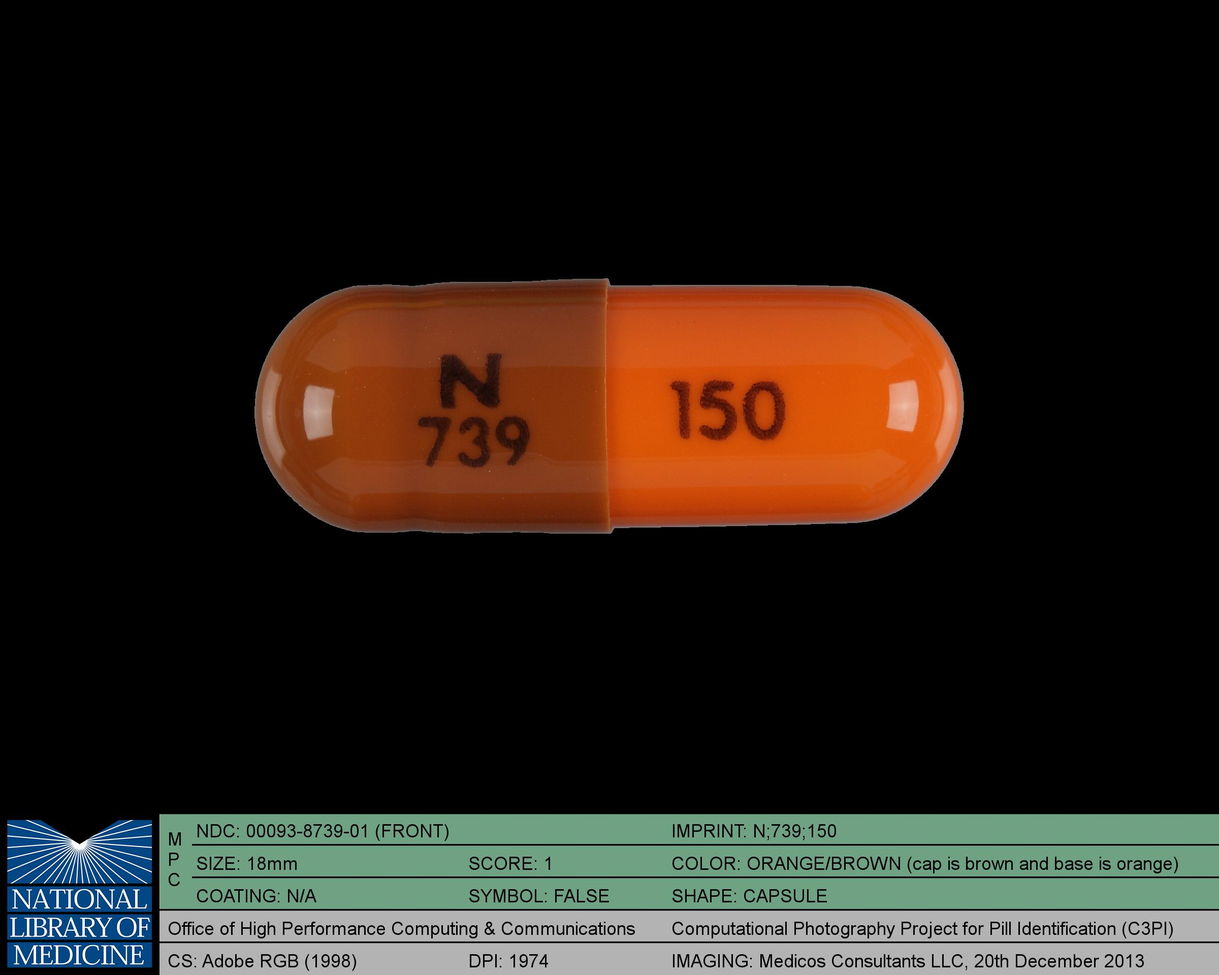Pill: (235, 261, 979, 552)
